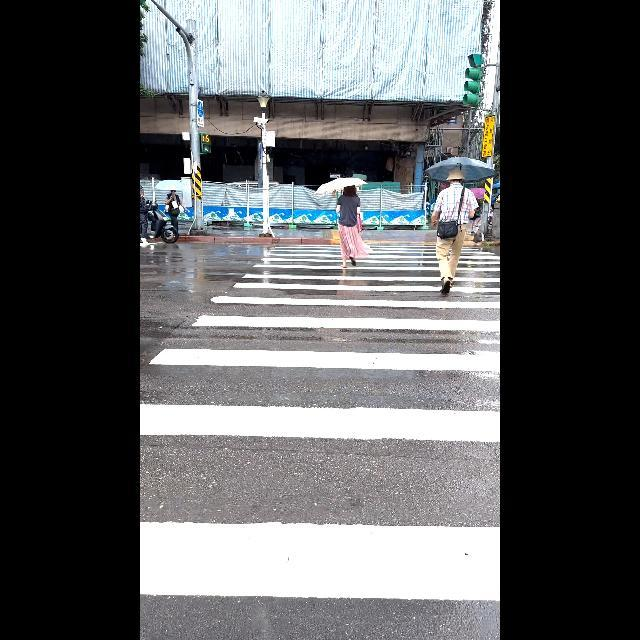sidewalk: (140, 231, 500, 640)
